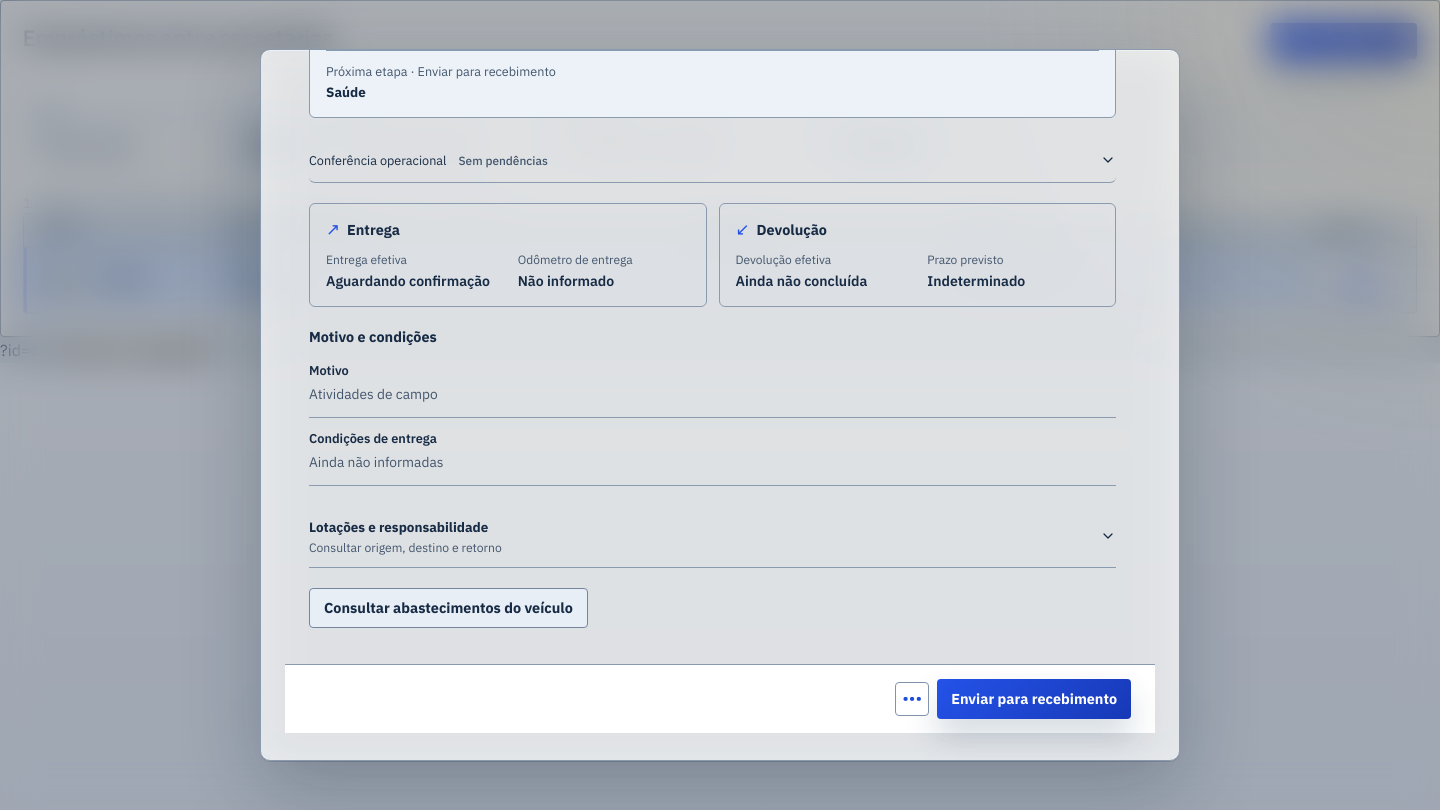
Test: carrega detalhe e oferece envio e edição apenas para a origem
(page scrolled)
Expected: the button "Enviar para recebimento" is enabled, [937,679,1131,719]
Click the button named "Mais ações do empréstimo de ABC1234" at {"x": 912, "y": 699}, box [895,682,929,716]
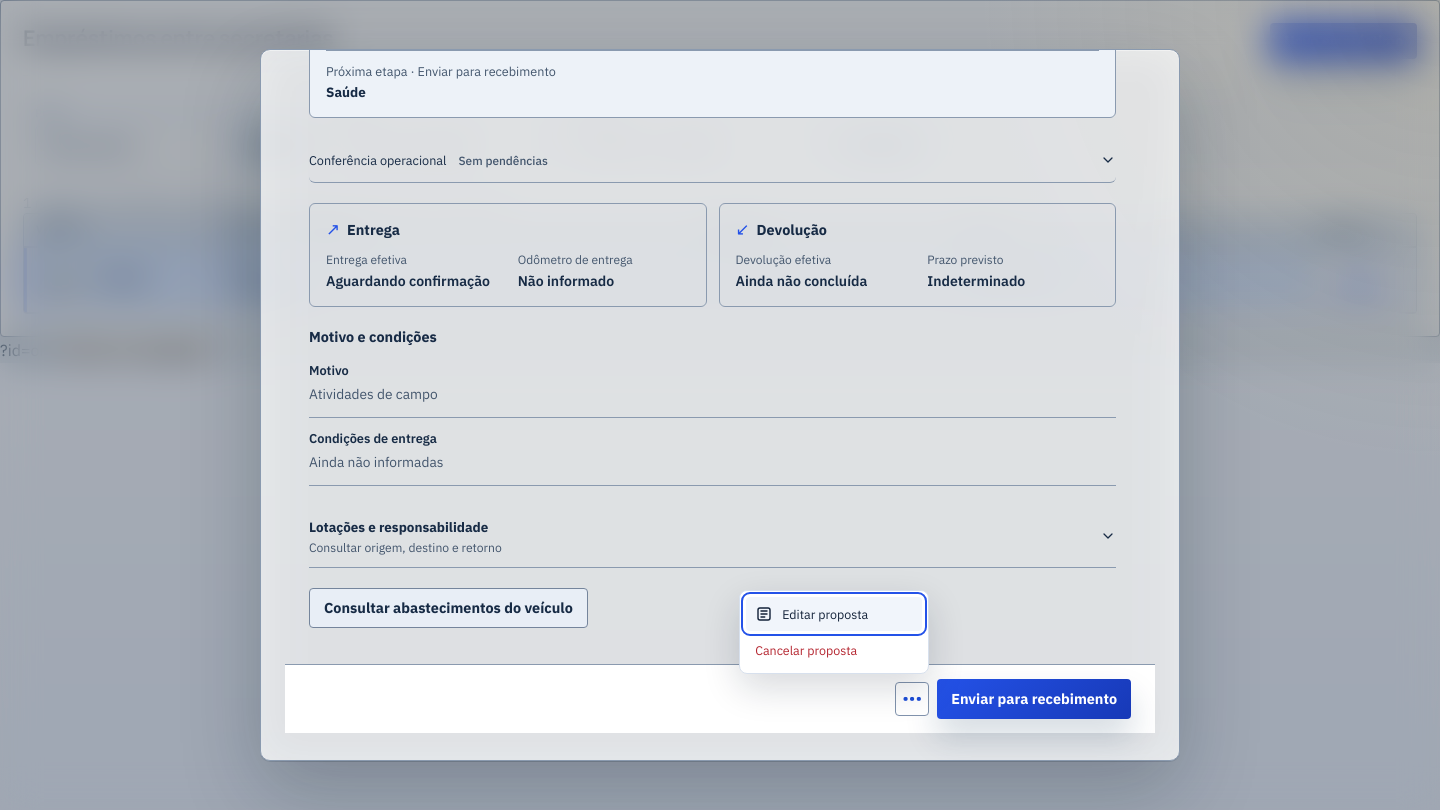
Now the menu item "Editar proposta" is enabled, box [746,597,922,631]
